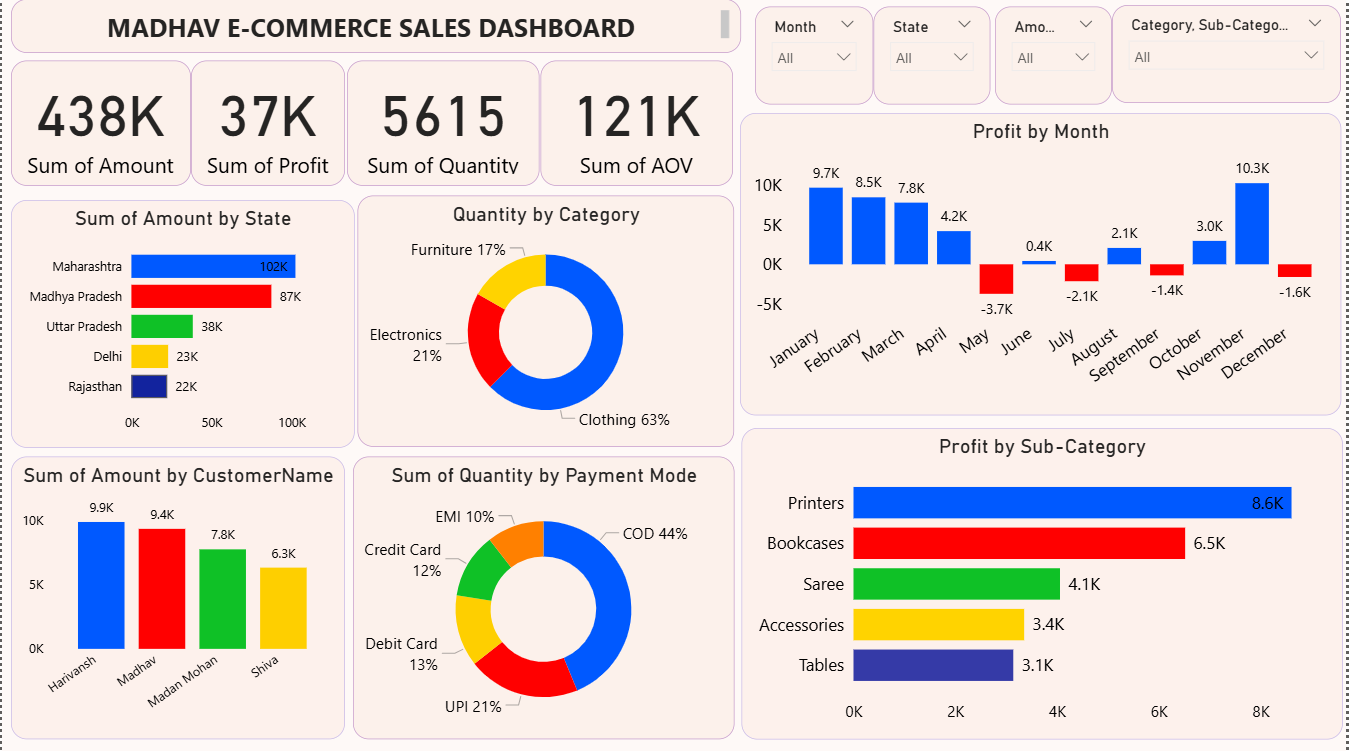

What the dashboard file says about the page in this screenshot:
{"tool":"powerbi","page":{"name":"Page 1","canvas":[1280,720],"ordinal":0},"visuals":[{"type":"textbox","box":[9.1,0,695,51.5],"z":0},{"type":"columnChart","title":" Profit by Month","fields":{"Category":["Orders.Order Date.Variation.Date Hierarchy.Month"],"Y":["Details.Profit"]},"box":[702.6,109,572.4,287.7],"z":1000},{"type":"barChart","title":" Profit by Sub-Category","fields":{"Category":["Details.Sub-Category"],"Y":["Details.Profit"]},"box":[704.1,408.8,572.4,296.8],"z":2000},{"type":"donutChart","title":" Quantity by Category","fields":{"Category":["Details.Category"],"Y":["Details.Quantity"]},"box":[339.2,187.8,358.9,239.2],"z":3000},{"type":"donutChart","title":" Sum of Quantity by Payment Mode ","fields":{"Y":["Details.Quantity"],"Category":["Details.PaymentMode"]},"box":[334.6,436.1,363.4,269.5],"z":4000},{"type":"card","fields":{"Values":["Details.Amount"]},"box":[9.1,59.1,171.1,119.6],"z":5000},{"type":"card","fields":{"Values":["Details.Profit"]},"box":[180.2,59.1,146.9,119.6],"z":6000},{"type":"card","fields":{"Values":["Details.Quantity"]},"box":[328.6,59.1,183.2,119.6],"z":7000},{"type":"card","fields":{"Values":["Details.AOV"]},"box":[513.3,59.1,183.2,119.6],"z":8000},{"type":"barChart","title":" Sum of Amount by State","fields":{"Category":["Orders.State"],"Y":["Details.Amount"]},"box":[9.1,190.8,327.1,236.2],"z":9000},{"type":"clusteredColumnChart","fields":{"Category":["Orders.CustomerName"],"Y":["Details.Amount"]},"box":[9.1,436.1,318,269.5],"z":10000},{"type":"slicer","fields":{"Values":["Orders.Order Date.Variation.Date Hierarchy.Month"]},"box":[717.6,7.3,112.5,93.5],"z":11000},{"type":"slicer","fields":{"Values":["Orders.State"]},"box":[830.1,7.3,111.1,93.5],"z":12000},{"type":"slicer","fields":{"Values":["Details.Amount"]},"box":[945.6,7.3,111.1,93.5],"z":13000},{"type":"slicer","fields":{"Values":["Details.Category","Details.Sub-Category"]},"box":[1056.6,5.8,217.8,93.5],"z":14000}]}

Visuals, with their boxes in screenshot pixels (x1, y1, x2, y2), scaled from the page's 1280x720 canvas onto the 1349x751 screenshot:
textbox: region(10, 0, 742, 54)
" Profit by Month" columnChart: region(740, 114, 1344, 414)
" Profit by Sub-Category" barChart: region(742, 426, 1345, 736)
" Quantity by Category" donutChart: region(357, 196, 736, 445)
" Sum of Quantity by Payment Mode " donutChart: region(353, 455, 736, 736)
card - Details.Amount: region(10, 62, 190, 186)
card - Details.Profit: region(190, 62, 345, 186)
card - Details.Quantity: region(346, 62, 539, 186)
card - Details.AOV: region(541, 62, 734, 186)
" Sum of Amount by State" barChart: region(10, 199, 354, 445)
clusteredColumnChart - Orders.CustomerName x Details.Amount: region(10, 455, 345, 736)
slicer - Orders.Order Date.Variation.Date Hierarchy.Month: region(756, 8, 875, 105)
slicer - Orders.State: region(875, 8, 992, 105)
slicer - Details.Amount: region(997, 8, 1114, 105)
slicer - Details.Category x Details.Sub-Category: region(1114, 6, 1343, 104)
